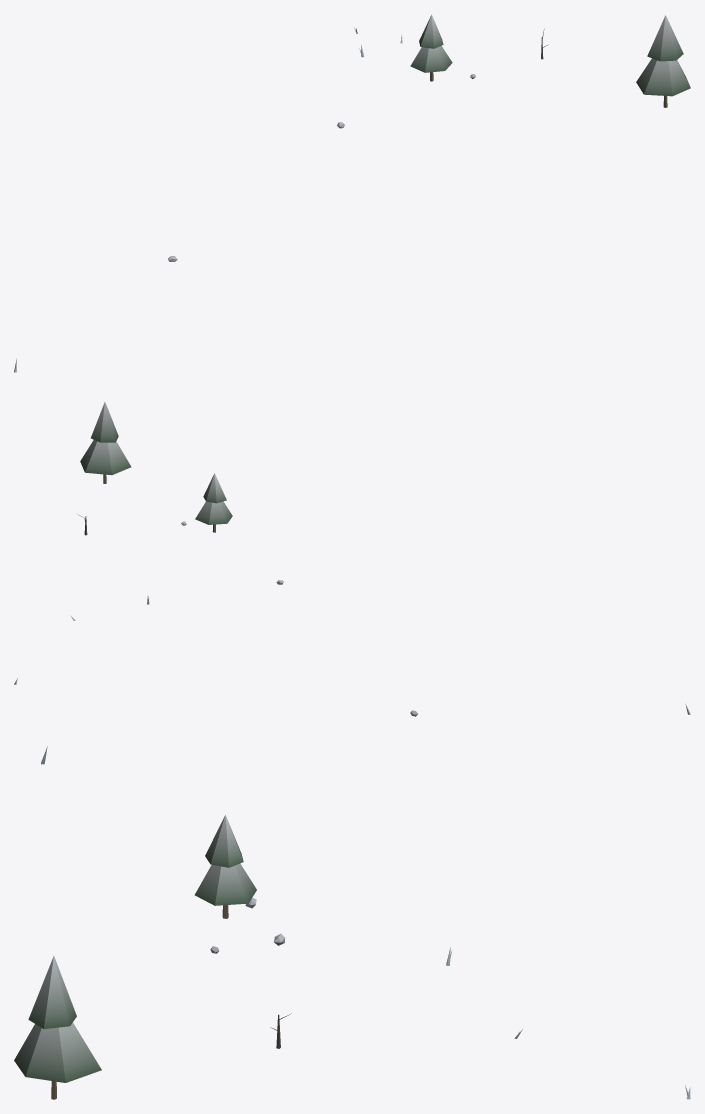
File: frost_land_scatter_c21_08_lod1.glb
The picture shows the model from 3 angles, top to bottom: view 1: azimuth 30°, elevation 25°; view 2: azimuth 150°, elevation 25°; view 3: azimuth 270°, elevation 25°; orthographic projection. The views are drawn at different scales.
Parts seen in each view (by area): view 1: frost_land_scatter_c21_08_lod1; view 2: frost_land_scatter_c21_08_lod1; view 3: frost_land_scatter_c21_08_lod1.
Part boxes in pixels (x1,y1,x2,y2): frost_land_scatter_c21_08_lod1: (14, 14, 690, 372); frost_land_scatter_c21_08_lod1: (14, 402, 690, 716); frost_land_scatter_c21_08_lod1: (14, 746, 690, 1099).
Size of the model in its own units: 132 by 37.57 by 73.79.
